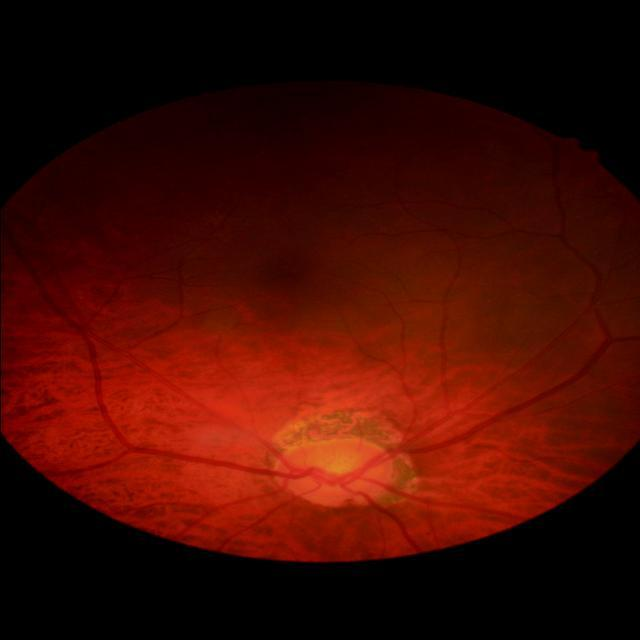cup: (292, 454, 374, 486)
disk: (272, 439, 394, 509)
